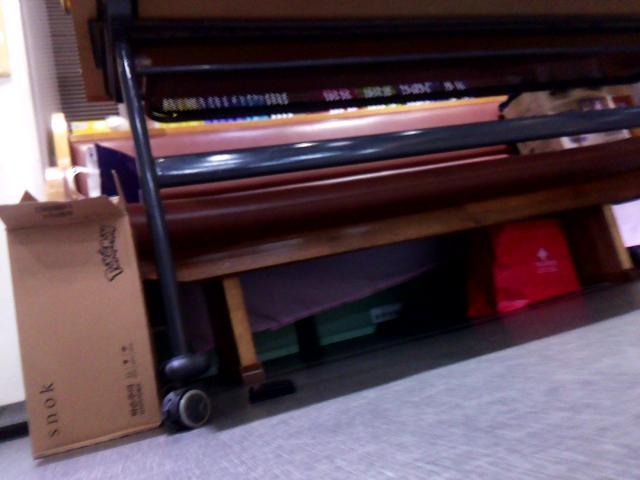wallet: (237, 374, 301, 408)
